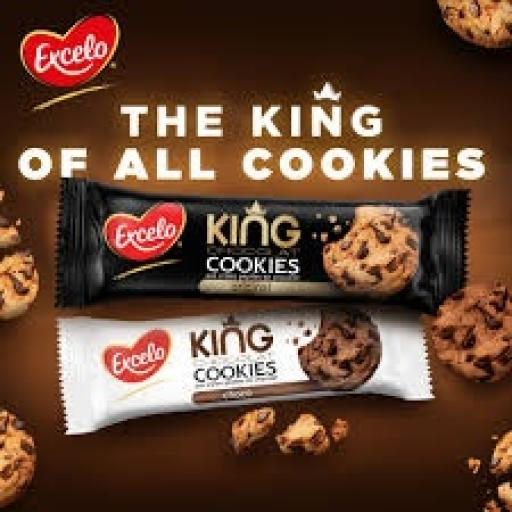king_cooking: (35, 153, 483, 325)
